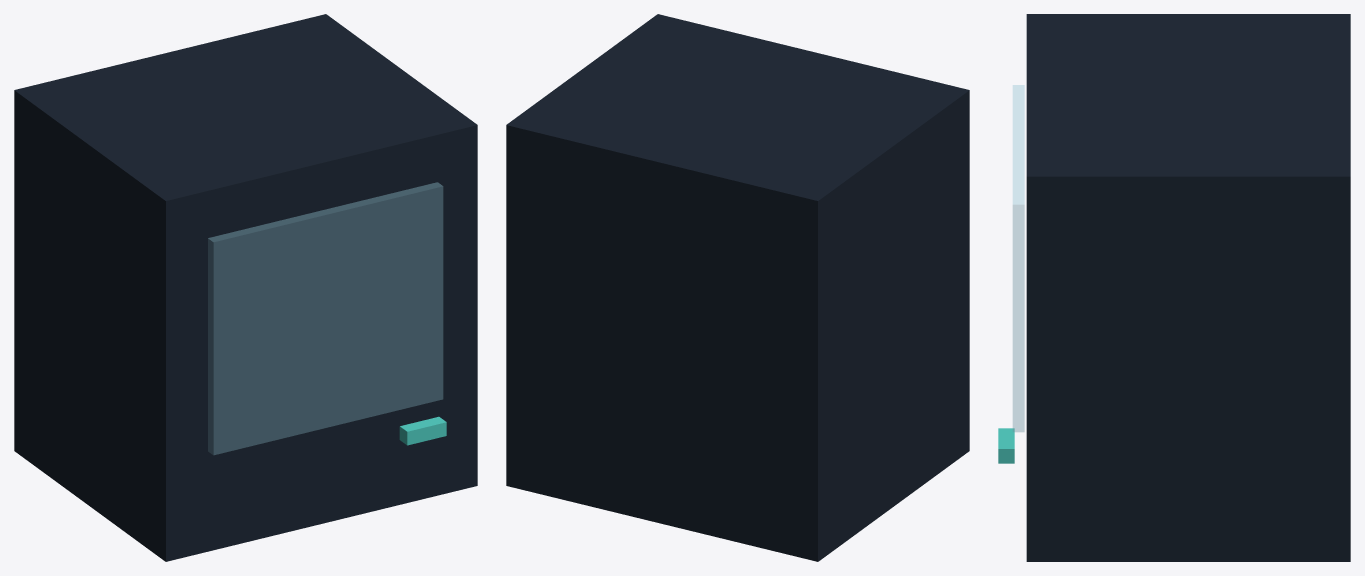
The model's file is chamber.glb.
The picture shows the model from 3 angles, left to right: view 1: azimuth 30°, elevation 25°; view 2: azimuth 150°, elevation 25°; view 3: azimuth 270°, elevation 25°; orthographic projection. The views are drawn at different scales.
Size of the model in its own units: 0.95 by 1.05 by 0.87.
